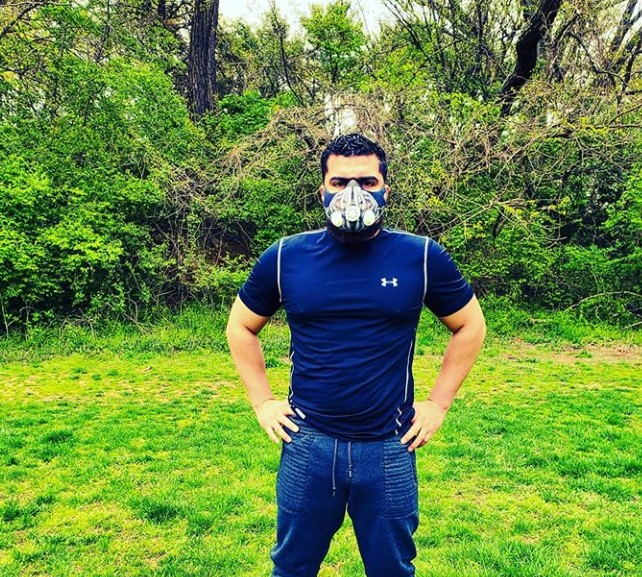face_with_mask: (315, 131, 392, 245)
